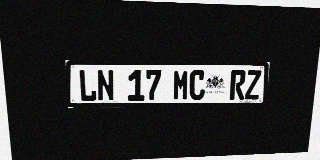1: (127, 70, 144, 101)
7: (145, 70, 161, 101)
C: (189, 70, 206, 100)
L: (78, 70, 97, 102)
M: (173, 70, 189, 100)
N: (96, 70, 114, 101)
R: (229, 70, 246, 100)
Z: (245, 70, 261, 99)
